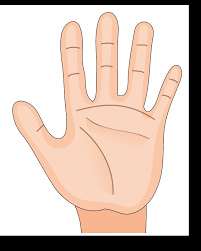palm: (60, 104, 159, 209)
